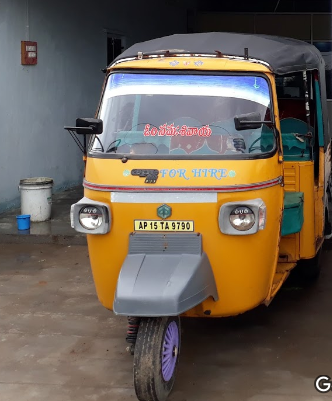auto: (63, 25, 332, 401)
numberplate: (134, 218, 201, 233)
